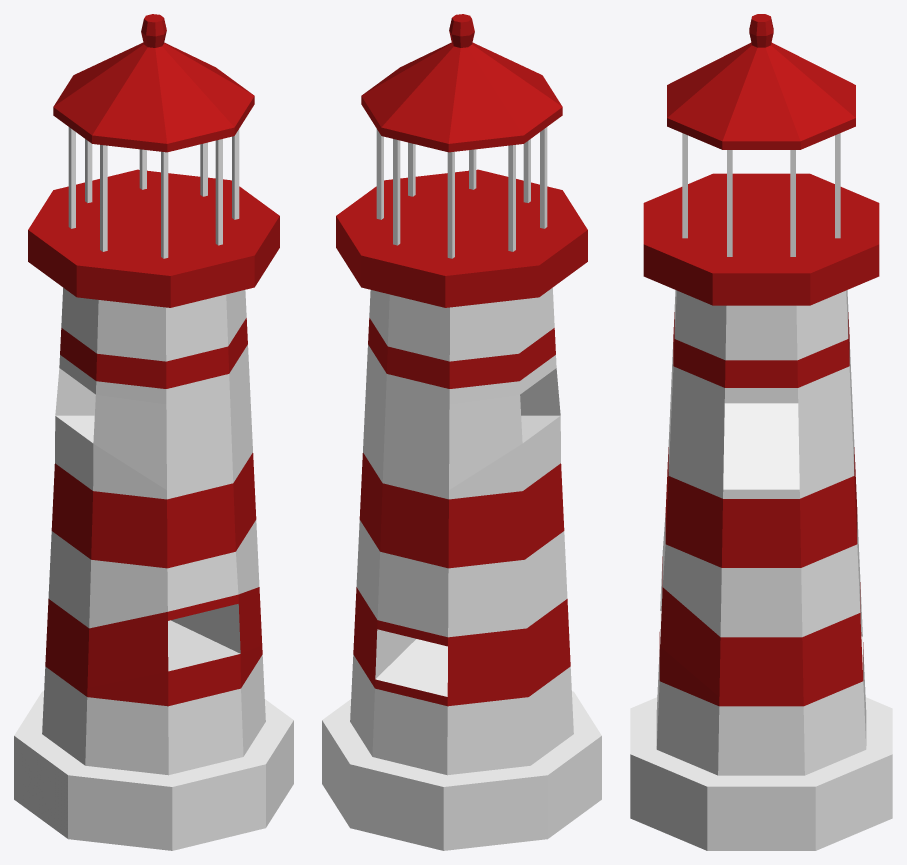
Rendered from Lighthouse.glb.
The picture shows the model from 3 angles, left to right: view 1: azimuth 30°, elevation 25°; view 2: azimuth 150°, elevation 25°; view 3: azimuth 270°, elevation 25°; orthographic projection.
Parts seen in each view (by area): view 1: Lighthouse; view 2: Lighthouse; view 3: Lighthouse.
Part boxes in pixels (x1,y1,x2,y2): Lighthouse: (14, 14, 293, 850); Lighthouse: (322, 14, 601, 850); Lighthouse: (630, 14, 892, 850).
Size of what is drawn, in the model's own units: 1.85 by 6.05 by 1.85.
Materials: 1 (1 with a texture image).
